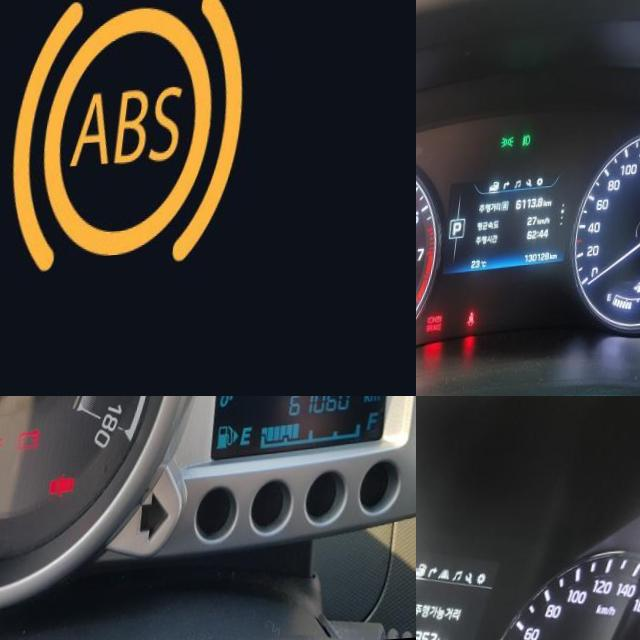Doors: (58, 476, 86, 502)
FrontFogLight: (528, 138, 537, 152)
SideLamp: (506, 140, 521, 153)
